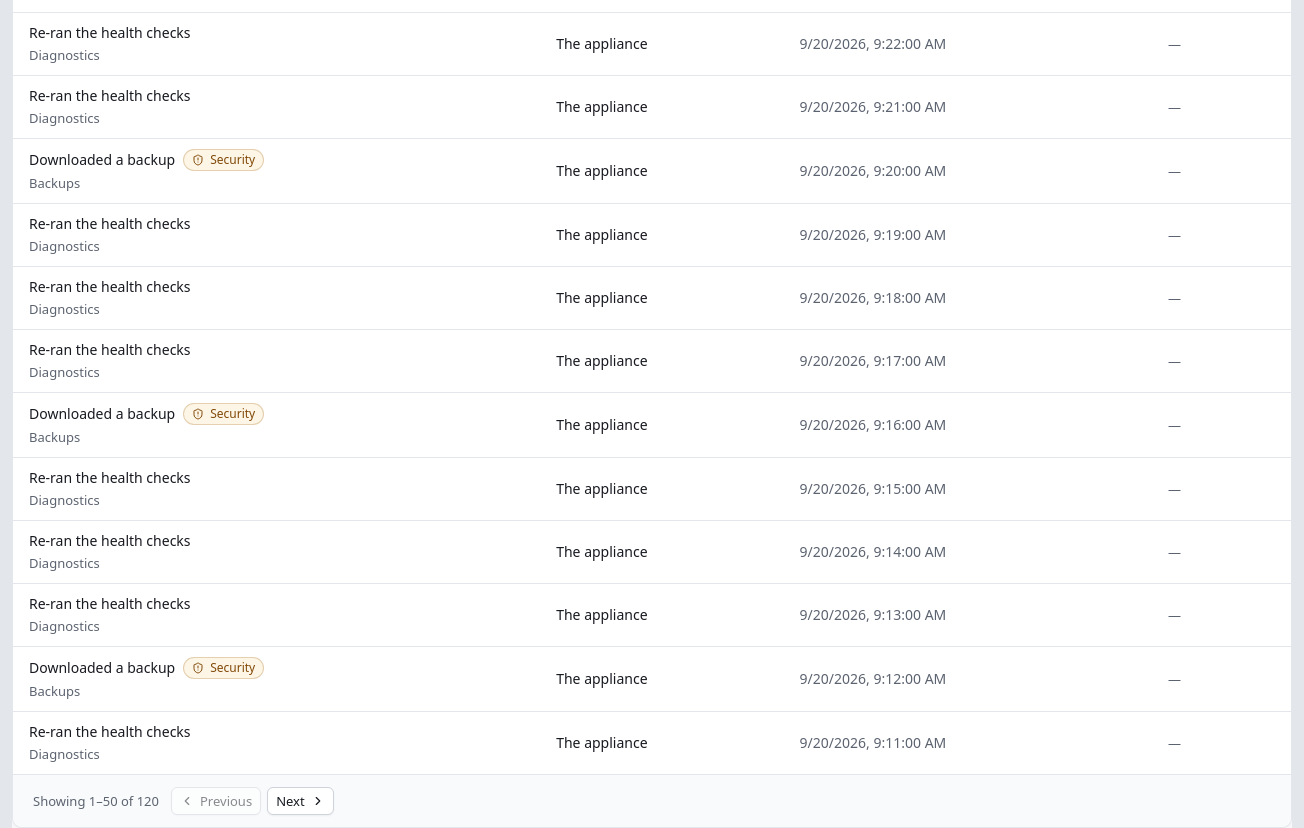
it: Activity — server paging › pages the whole period, counts it on the server, and starts again at page 1 on a new filter
This screenshot has width=1304, height=828.
(page scrolled)
Expected: the text "Showing 1–50 of 120" is shown, [33,791,159,811]
Click the button "Next": point(300, 801) [267,787,334,815]
(page scrolled)
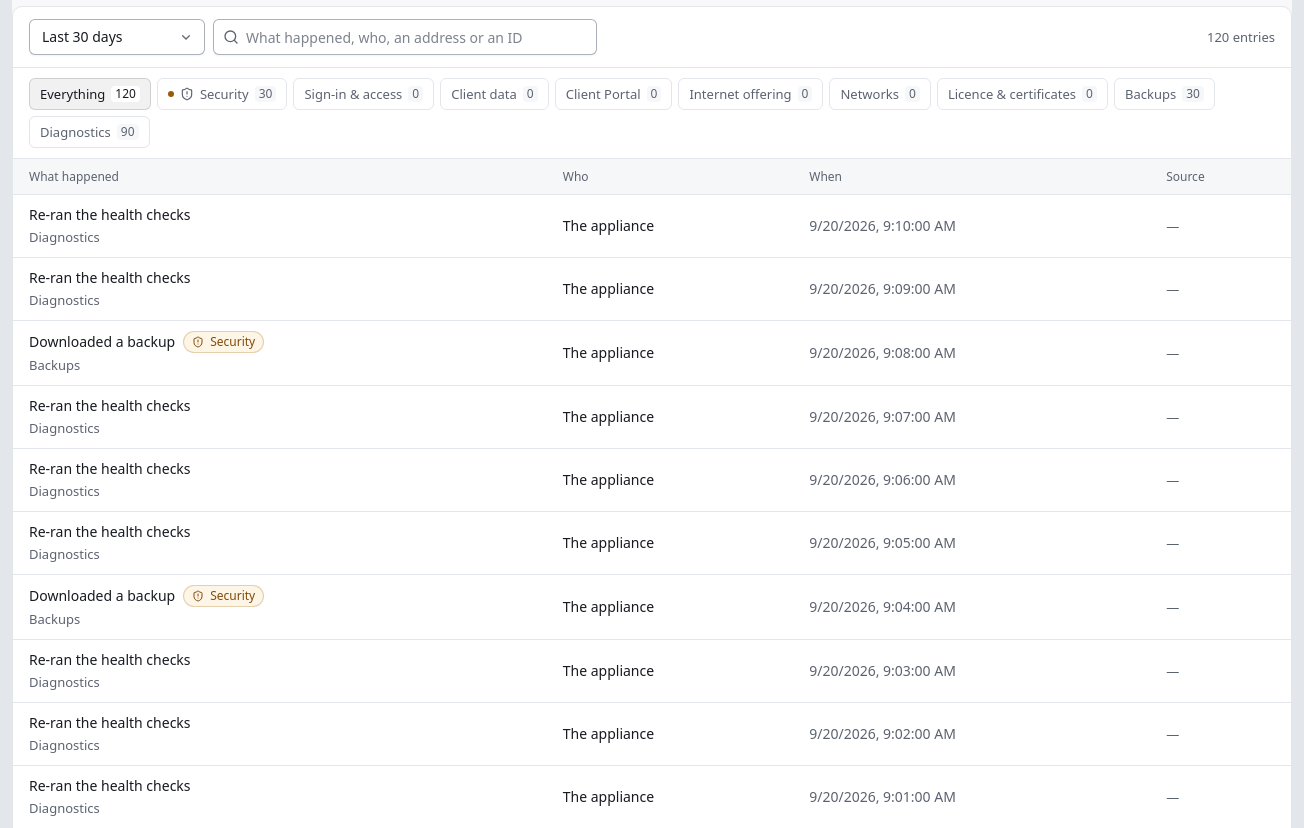
Click the radio button labelled "Security 30": point(222, 94) [157,78,287,110]
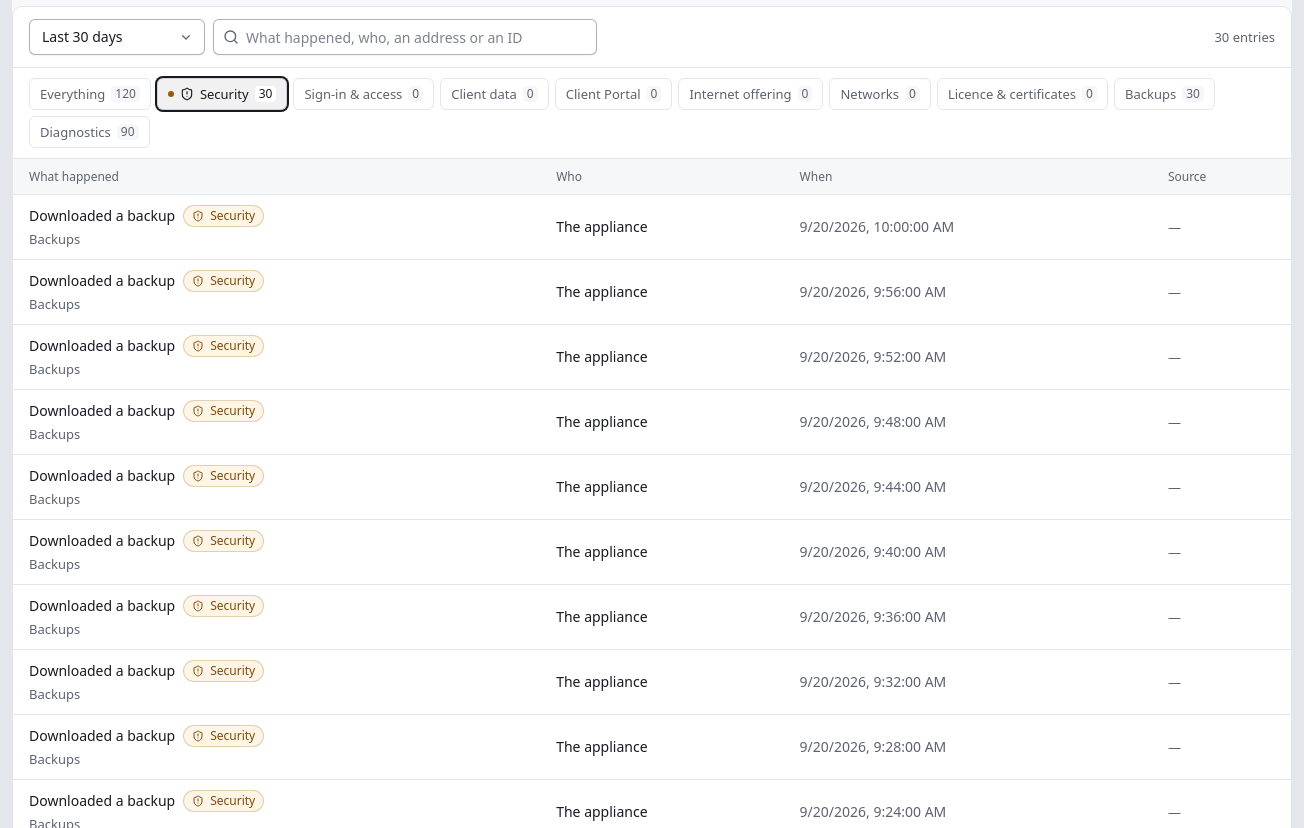
Result: the text "30 entries" is shown at [1214,27,1275,47]
